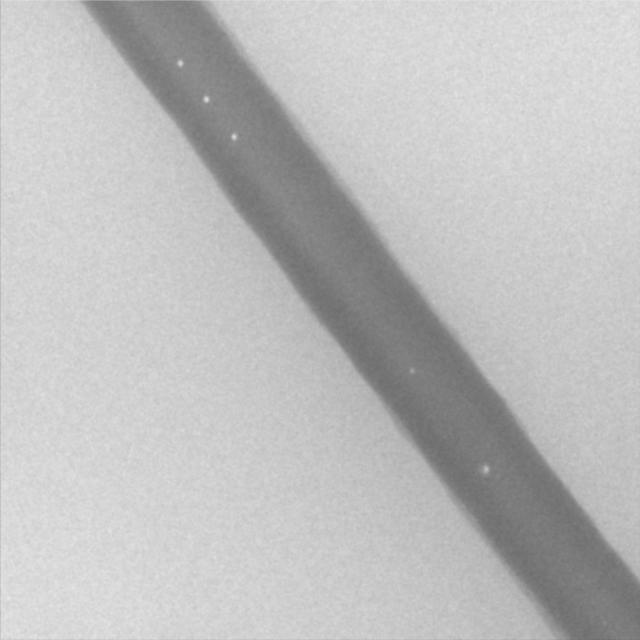air hole: (174, 56, 185, 68), (228, 130, 239, 142), (479, 462, 489, 474), (407, 364, 415, 376), (201, 94, 210, 104)
